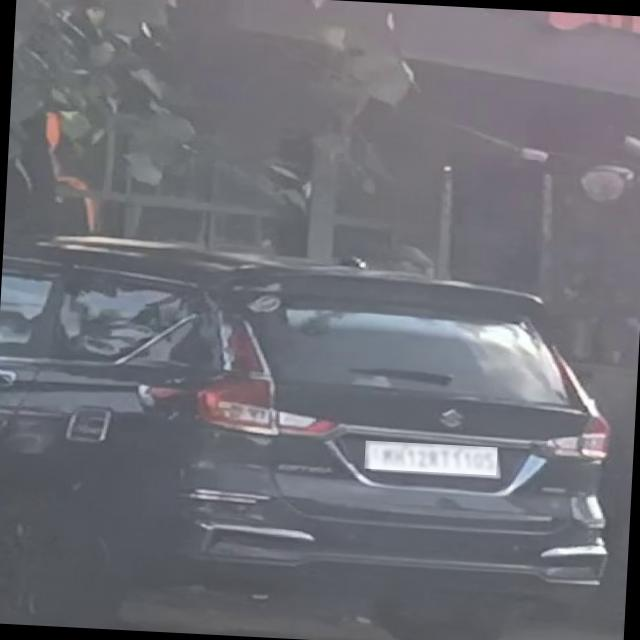Plate: (366, 442, 499, 477)
